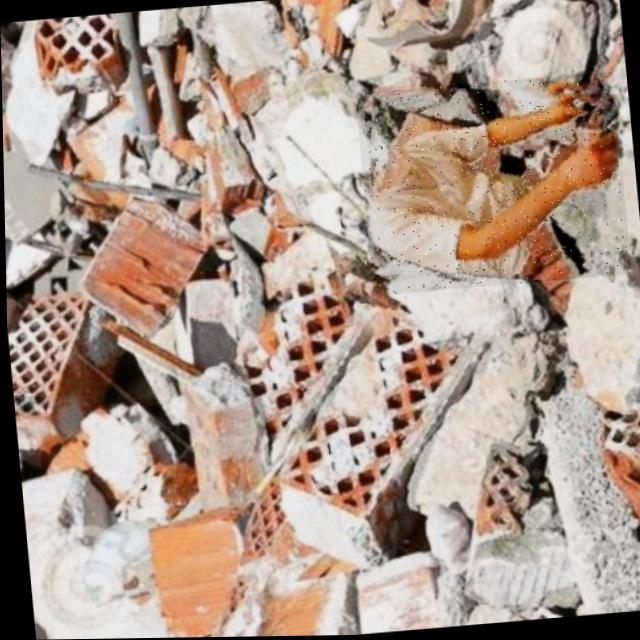Person in Rubble: (354, 72, 631, 296)
